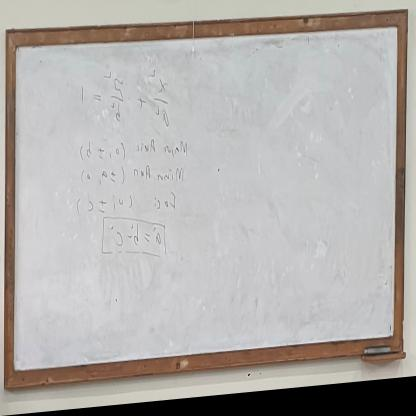Handwritten text: (135, 131, 193, 164), (132, 164, 188, 196)
Whiteboard: (9, 27, 404, 378)
